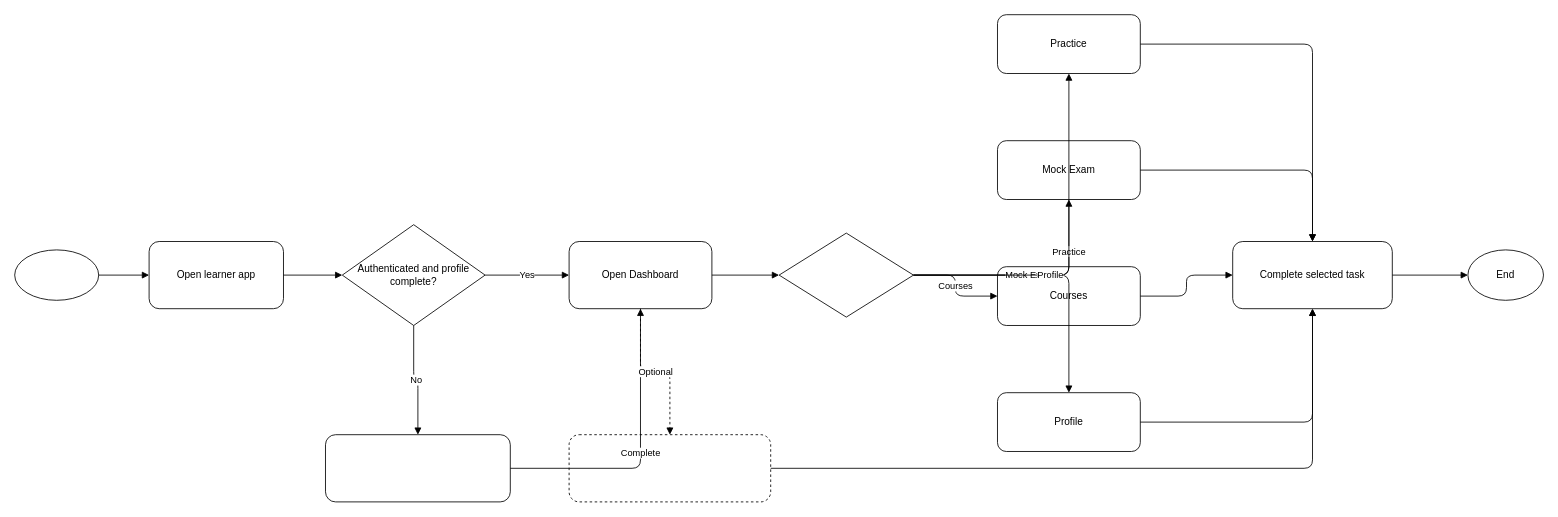
The diagram is 1558 pixels wide and 517 high, and some of its shapes have lost their labels. Here are the shapes that lost their labels. From the top down, the centre of each, then its label:
At (x=56, y=274): "Start".
At (x=846, y=274): "Select main navigation".
At (x=417, y=468): "Login / Register / Complete onboarding".
At (x=669, y=468): "Optional: top up wallet from balance/dialog".
